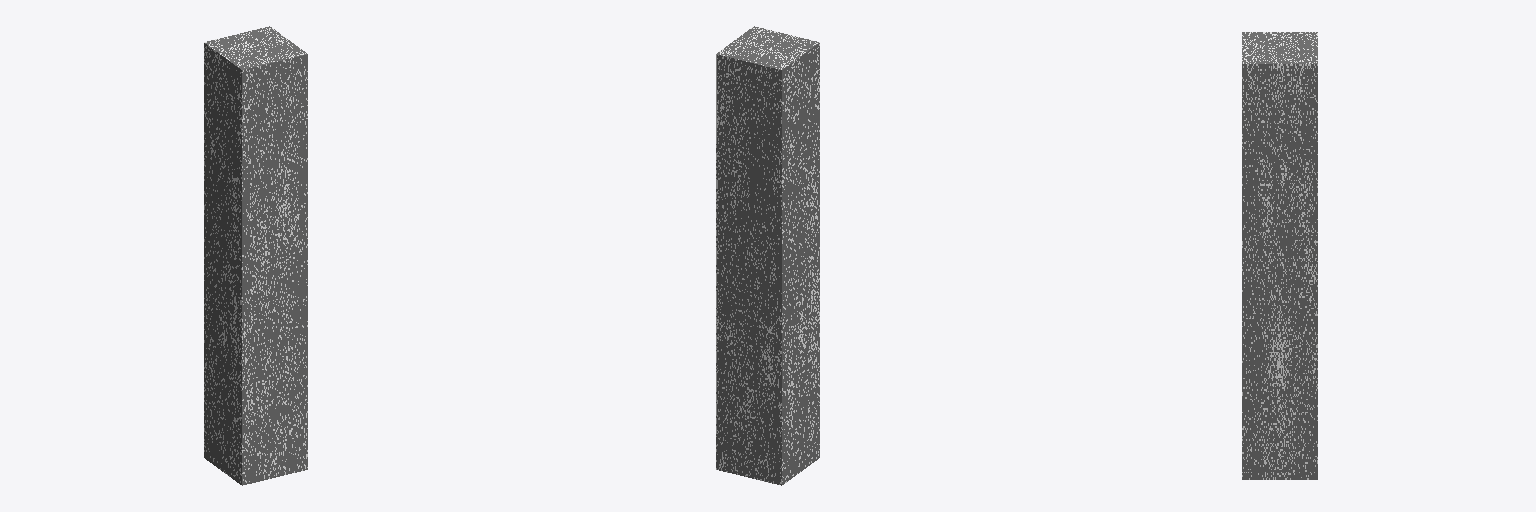
3 views of the same model, side by side, from view 1: azimuth 30°, elevation 25°; view 2: azimuth 150°, elevation 25°; view 3: azimuth 270°, elevation 25° (orthographic).
Visible parts, largest first — view 1: Naroznik.NR1_Cube.003; view 2: Naroznik.NR1_Cube.003; view 3: Naroznik.NR1_Cube.003.
Boxes of the visible parts, x1=… form: Naroznik.NR1_Cube.003: x1=204, y1=26, x2=307, y2=485; Naroznik.NR1_Cube.003: x1=716, y1=26, x2=819, y2=485; Naroznik.NR1_Cube.003: x1=1242, y1=32, x2=1317, y2=479.
Bounding box in the file's own units: 1 × 6 × 1.
1 materials, 1 textured.